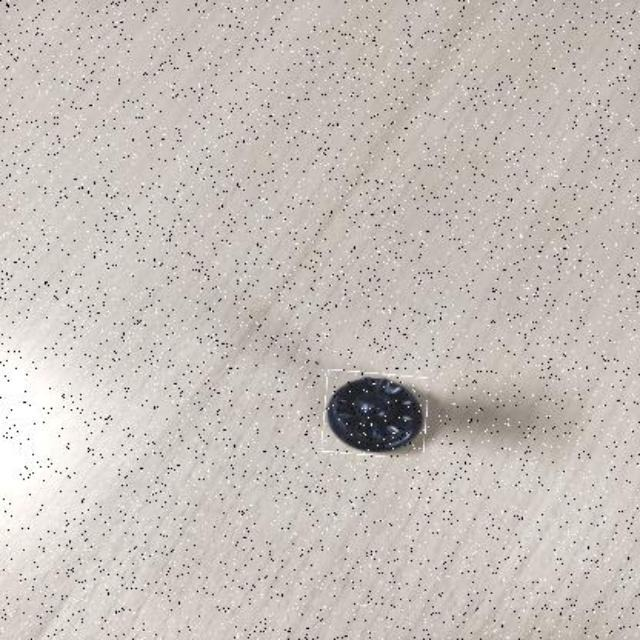black-queen: (323, 372, 427, 458)
